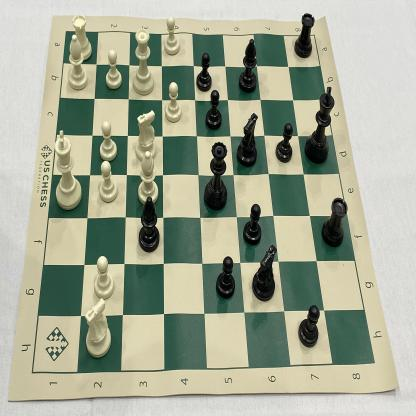black-bishop: (251, 241, 279, 306), (135, 195, 164, 253), (236, 35, 262, 97), (236, 110, 260, 169)
black-king: (302, 81, 336, 167)
black-pawn: (297, 301, 321, 351), (213, 254, 237, 302), (240, 202, 264, 249), (192, 51, 215, 94), (274, 119, 295, 166), (204, 87, 223, 133)
black-queen: (203, 139, 230, 214)
black-rook: (320, 194, 350, 249), (292, 10, 316, 61)
white-bishop: (66, 34, 90, 92), (137, 150, 159, 205)
white-king: (52, 127, 87, 213)
white-knight: (83, 298, 115, 360), (133, 108, 158, 163)
white-pawn: (92, 253, 116, 302), (97, 159, 119, 206), (163, 80, 184, 126), (98, 118, 119, 164), (103, 48, 124, 93), (163, 14, 181, 60)
white-queen: (130, 24, 157, 99)
white-rook: (70, 11, 94, 61)
